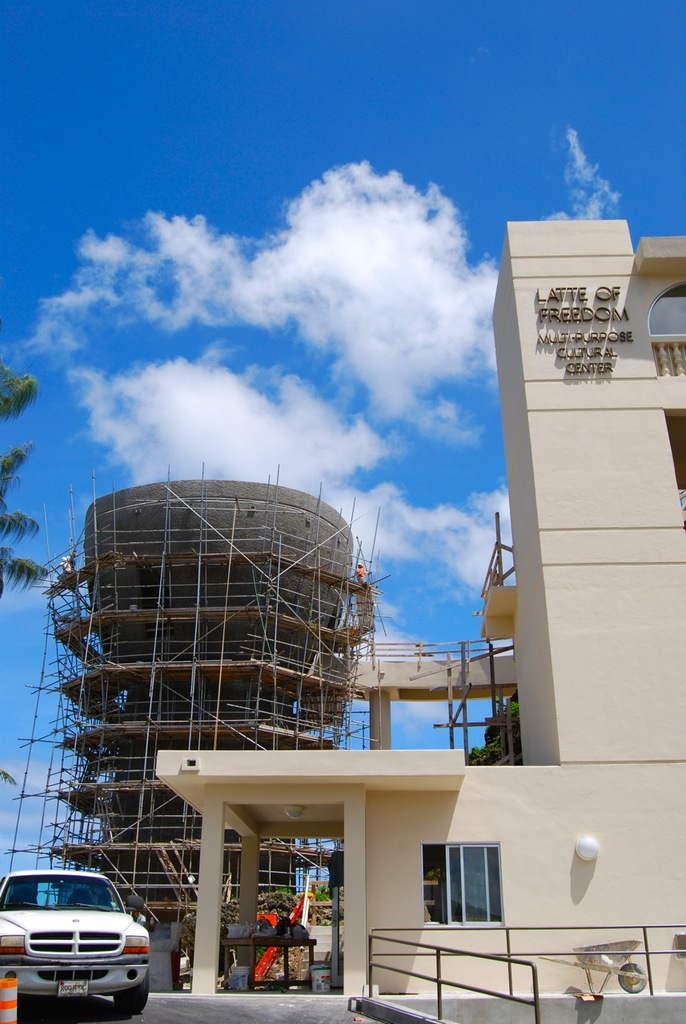Car: (0, 872, 147, 1011)
